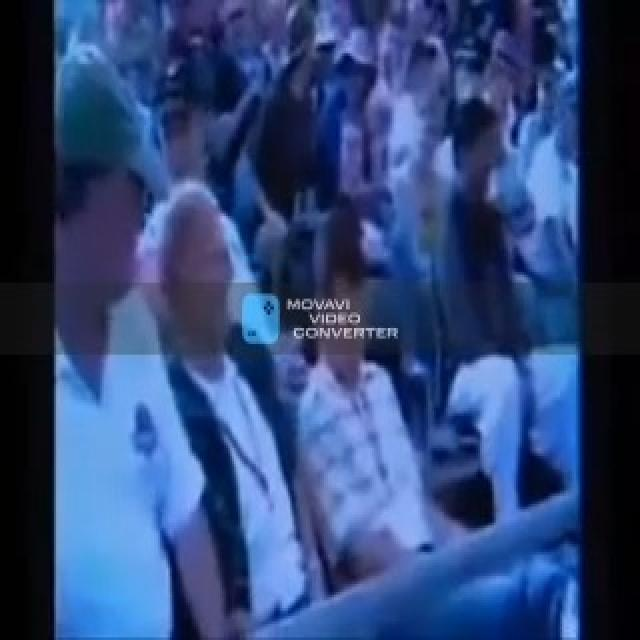non-voilence: (54, 0, 580, 637), (282, 293, 400, 344)
